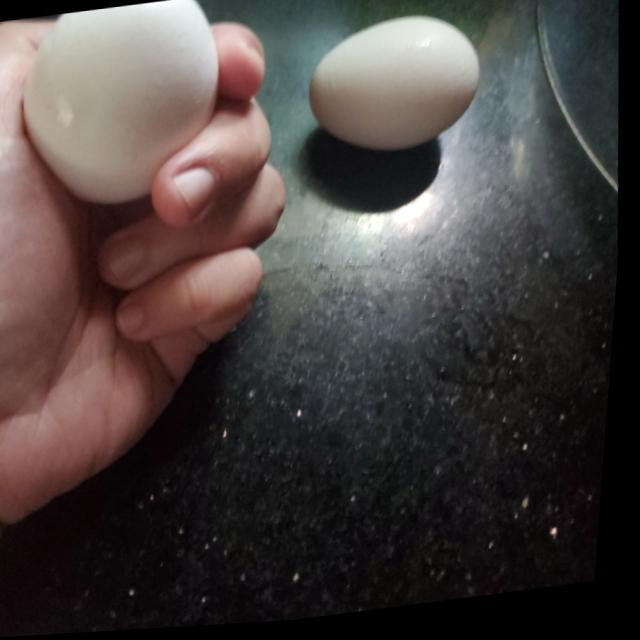egg: (13, 0, 231, 206), (304, 15, 490, 167)
